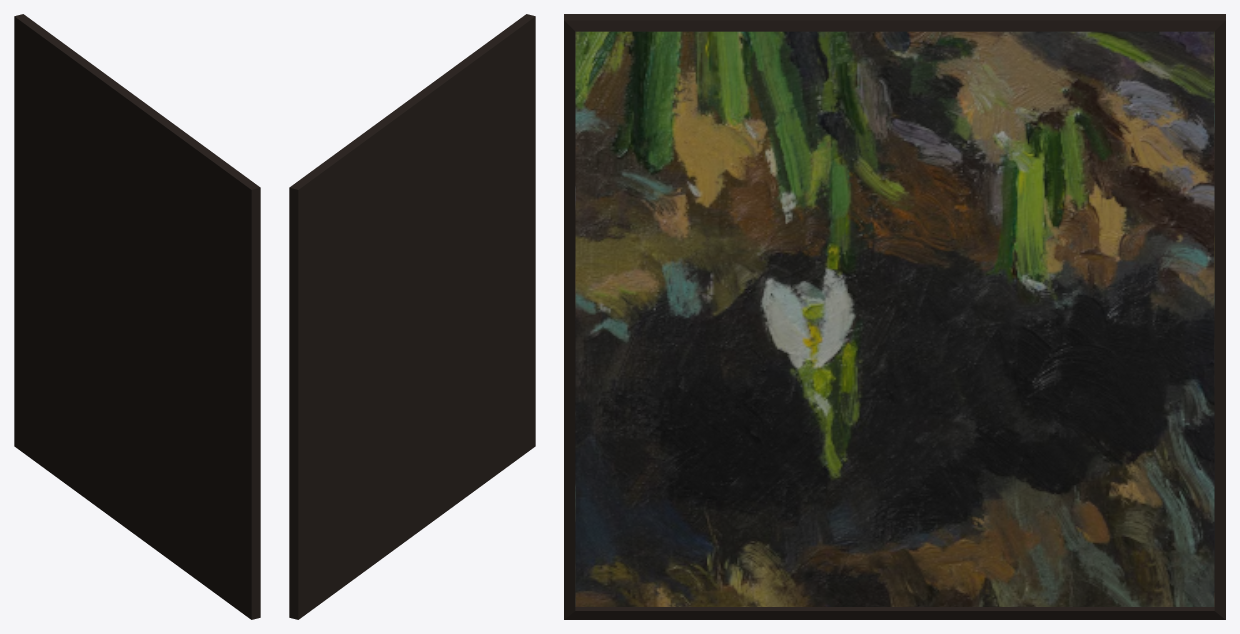
The model's file is Cuadro10.fbx.
The picture shows the model from 3 angles, left to right: view 1: azimuth 30°, elevation 25°; view 2: azimuth 150°, elevation 25°; view 3: azimuth 270°, elevation 25°; orthographic projection. The views are drawn at different scales.
Visible parts, largest first — view 1: Cuadro3; view 2: Cuadro3; view 3: Cuadro3.
Part boxes in pixels (left/top/right/bottom): Cuadro3: left=14, top=14, right=260, bottom=619; Cuadro3: left=289, top=14, right=535, bottom=619; Cuadro3: left=564, top=14, right=1225, bottom=619.
Size of the model in its own units: 0.131 by 4.85 by 4.85.
2 materials, 1 textured.
